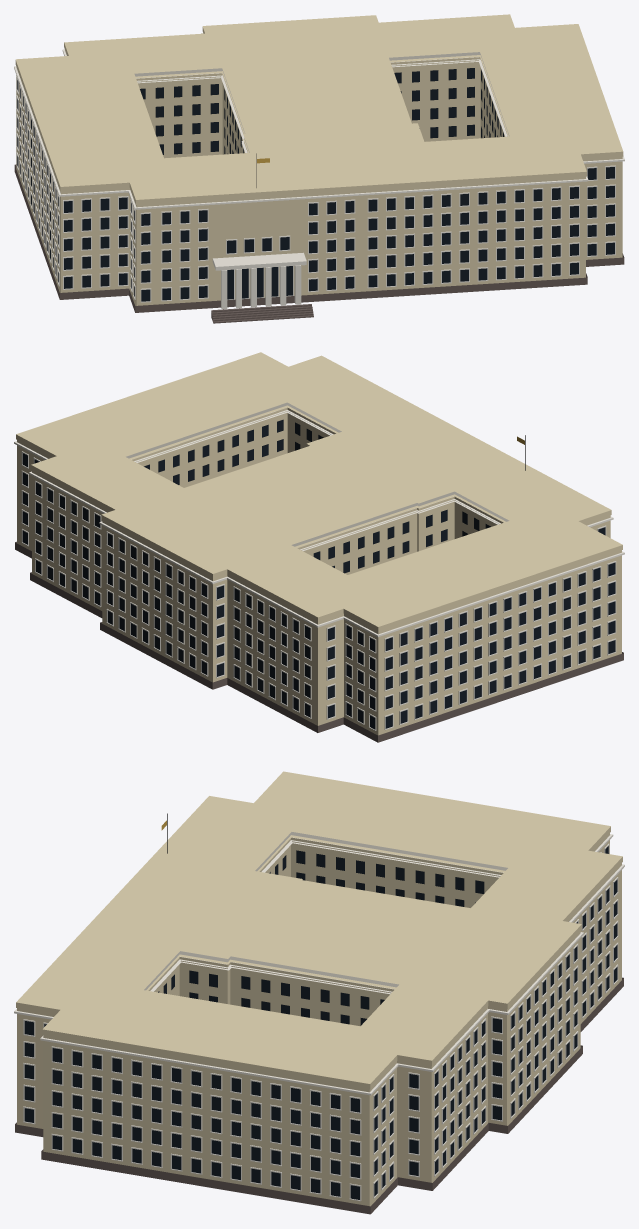
File: whitehouse-hi.glb
3 views of the same model, one above another, from view 1: azimuth 30°, elevation 25°; view 2: azimuth 150°, elevation 25°; view 3: azimuth 270°, elevation 25° (orthographic). The views are drawn at different scales.
Visible parts, largest first — view 1: lm-whitehouse; view 2: lm-whitehouse; view 3: lm-whitehouse.
Part boxes in pixels (bbox=[...]): lm-whitehouse: bbox=[14, 14, 624, 323]; lm-whitehouse: bbox=[14, 352, 624, 742]; lm-whitehouse: bbox=[14, 771, 624, 1214].
Size of the model in its own units: 108 by 27.21 by 88.67.
